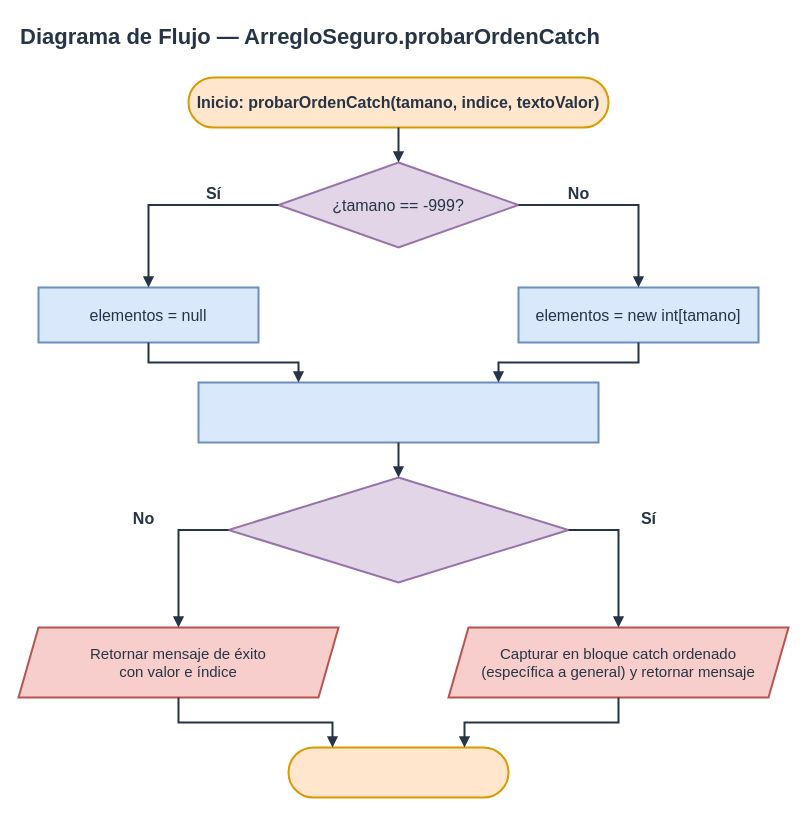
The diagram is 806 pixels wide and 815 high, and some of its shapes have lost their labels. The box of each missing label's shape, as (x1, y1, x2, y2) in pixels:
Fin probarOrdenCatch: (287, 746, 509, 798)
guardado = almacenarEnIndice(indice, textoValor): (197, 381, 599, 443)
¿Ocurrió alguna excepción en el bloque try?: (227, 476, 569, 583)
